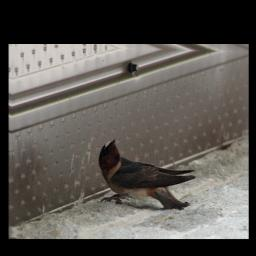Swallow: (97, 138, 197, 213)
